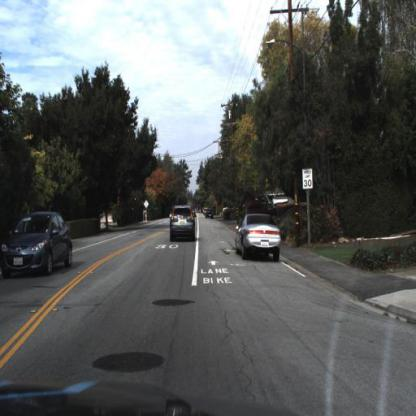car: (1, 213, 75, 281), (233, 208, 283, 264), (237, 187, 282, 217), (168, 202, 198, 244), (203, 208, 217, 226)
